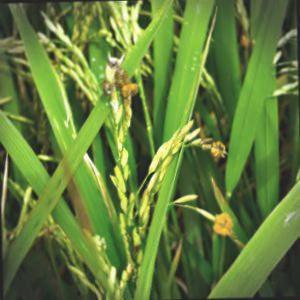Leaf_Scald: (213, 209, 236, 242), (207, 133, 230, 162), (118, 74, 134, 104)
